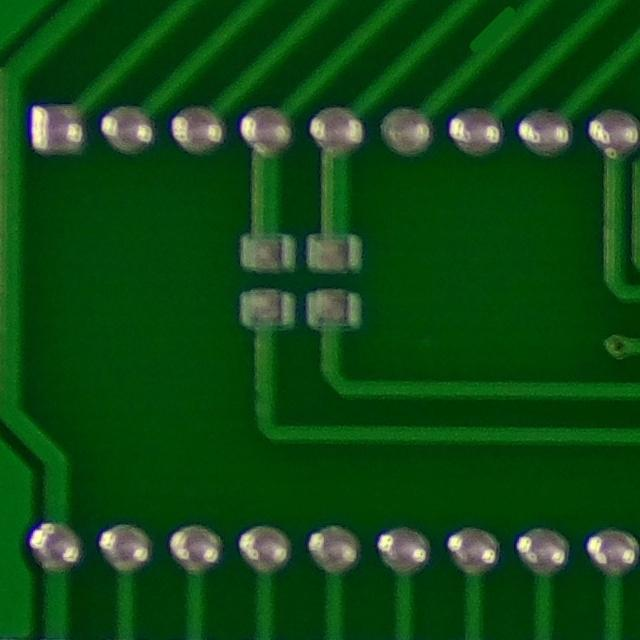spur: (459, 0, 531, 57)
